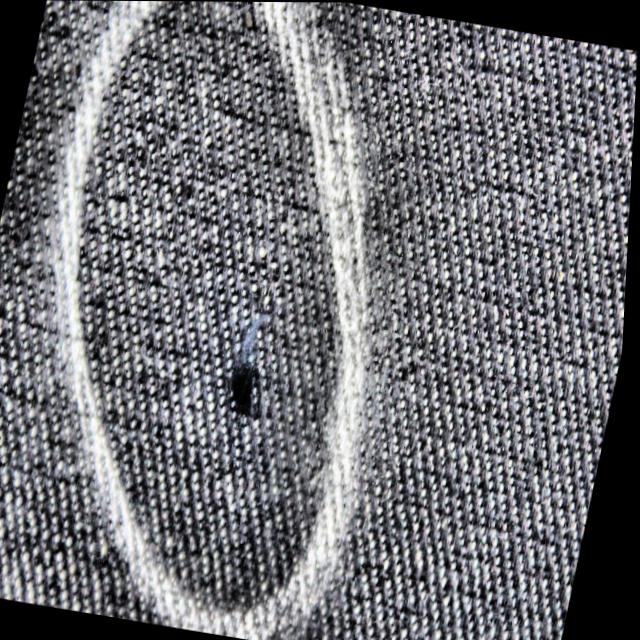Hole: (205, 303, 303, 466)
